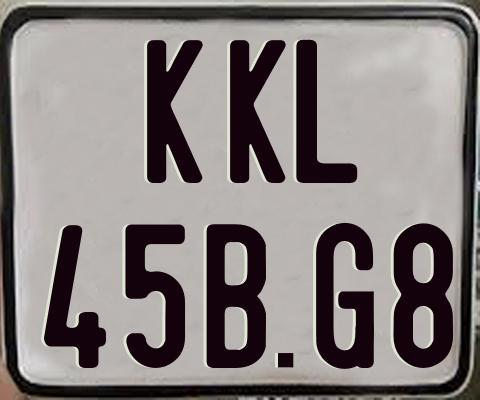4: (43, 224, 110, 372)
5: (125, 221, 187, 368)
8: (392, 221, 454, 370)
B: (206, 222, 269, 368)
G: (313, 223, 377, 369)
K: (228, 39, 290, 182), (145, 38, 205, 185)
L: (295, 39, 358, 188)
